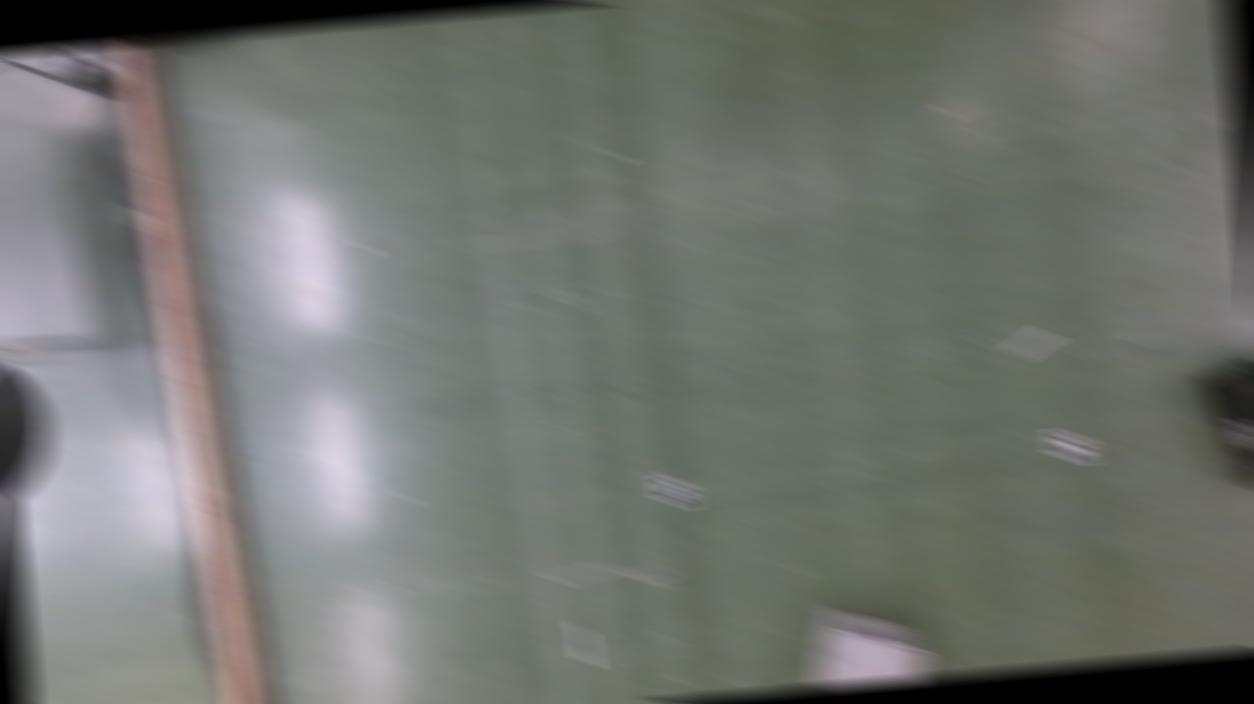probes: (1004, 327, 1058, 356), (572, 623, 596, 664)
rako: (803, 600, 932, 690), (1195, 355, 1254, 499)
